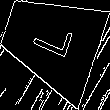L_W: (26, 18, 76, 65)
